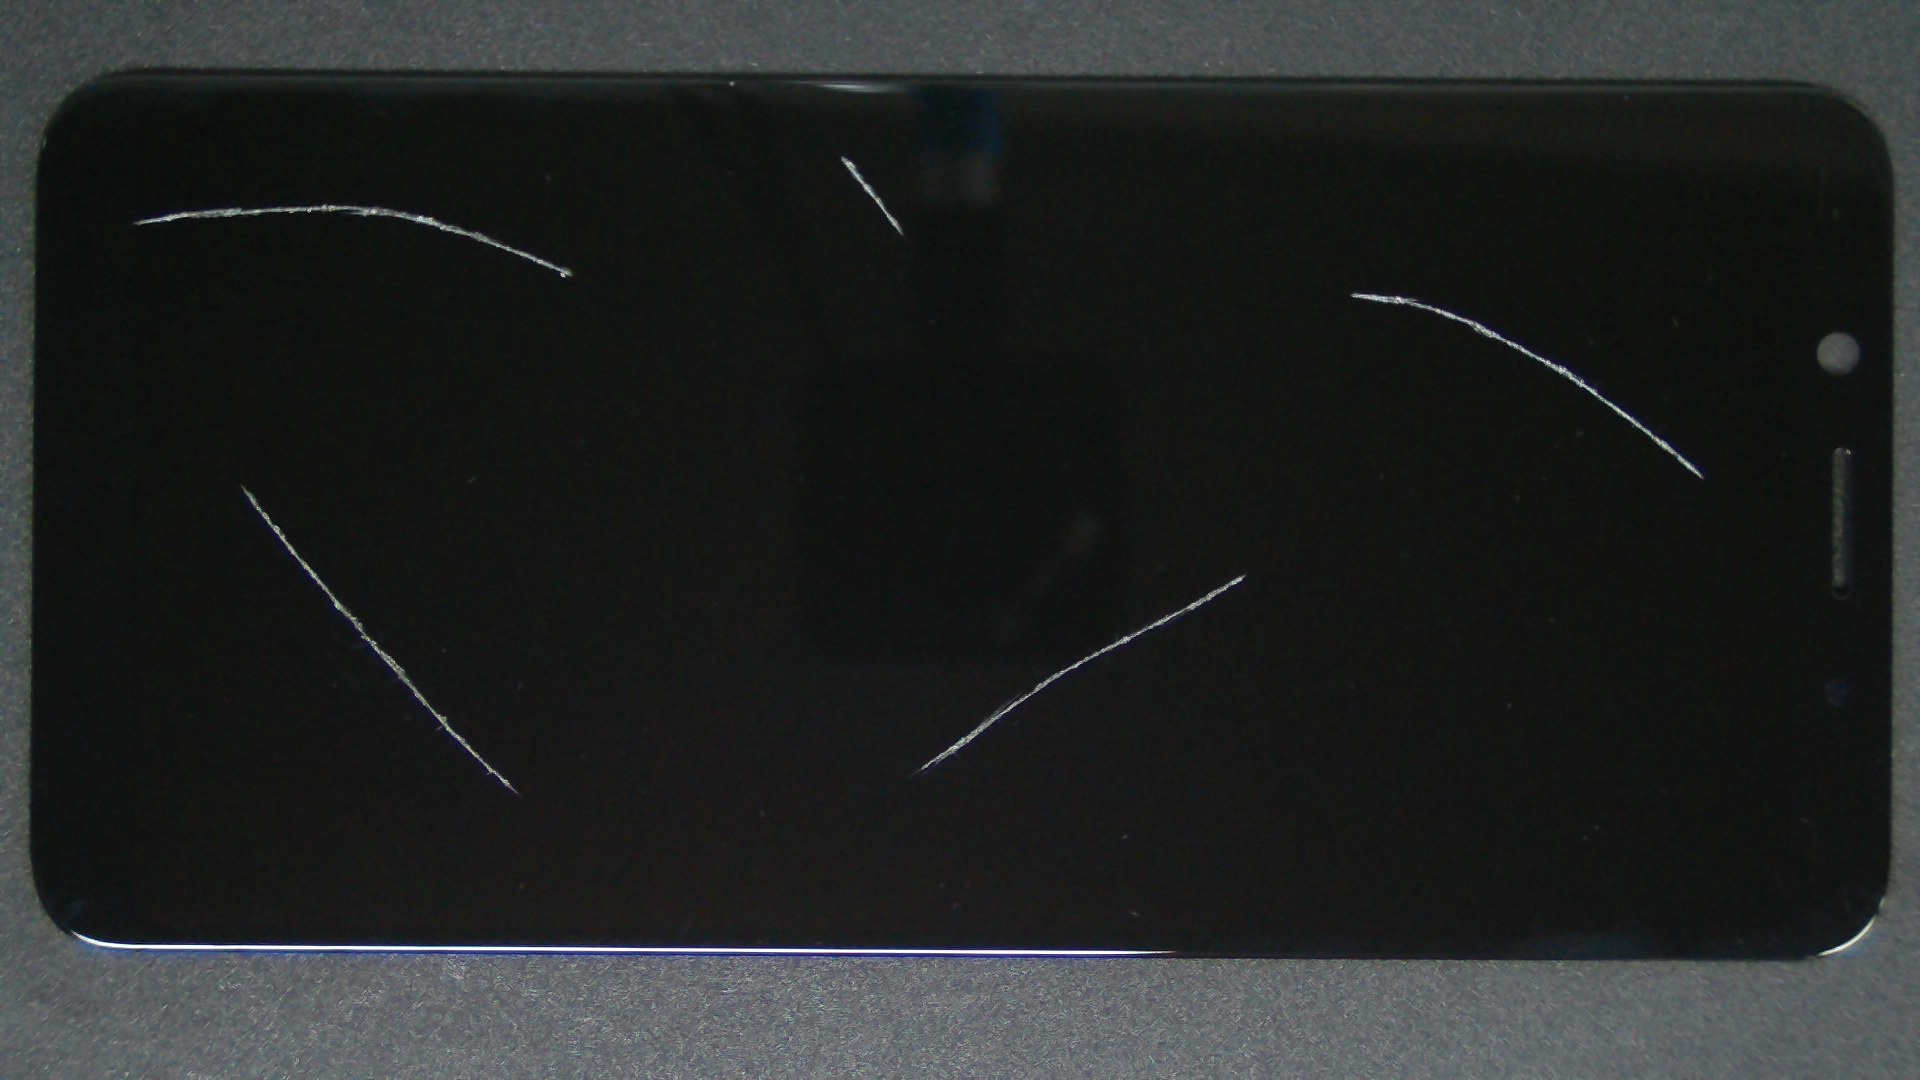oil: (624, 286, 1869, 860), (679, 145, 1920, 442), (419, 75, 1261, 235), (120, 241, 363, 727), (162, 102, 485, 306)
